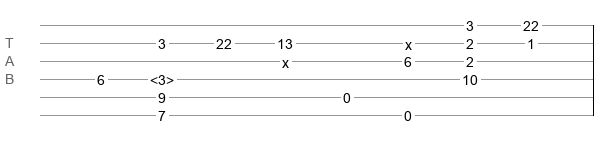0: (343, 90, 351, 100), (404, 108, 412, 118)
1: (527, 36, 535, 46)
10: (462, 72, 478, 82)
13: (277, 36, 293, 46)
2: (466, 36, 474, 46), (466, 54, 474, 64)
22: (216, 36, 232, 46), (523, 18, 539, 28)
3: (158, 36, 166, 46), (466, 18, 474, 28)
6: (97, 72, 105, 82), (404, 54, 412, 64)
7: (158, 108, 166, 118)
9: (158, 90, 166, 100)
harmonic: (150, 72, 174, 82)
x: (282, 55, 289, 63), (405, 37, 412, 45)
